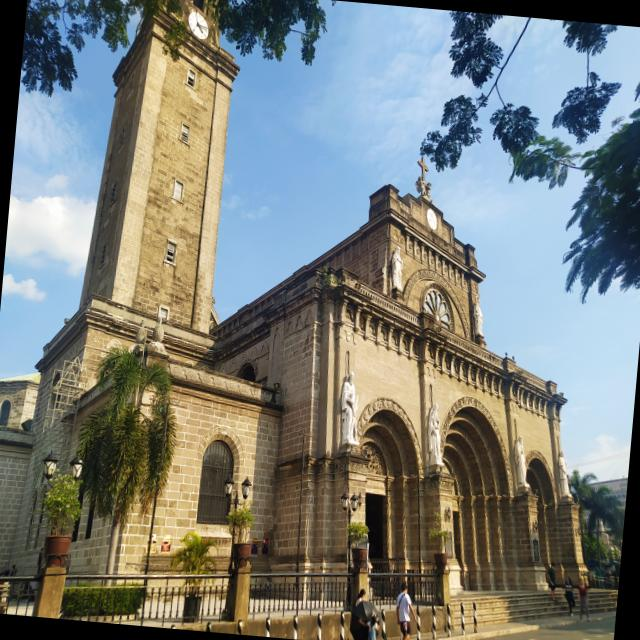Manila Cathedral: (0, 0, 617, 640)
